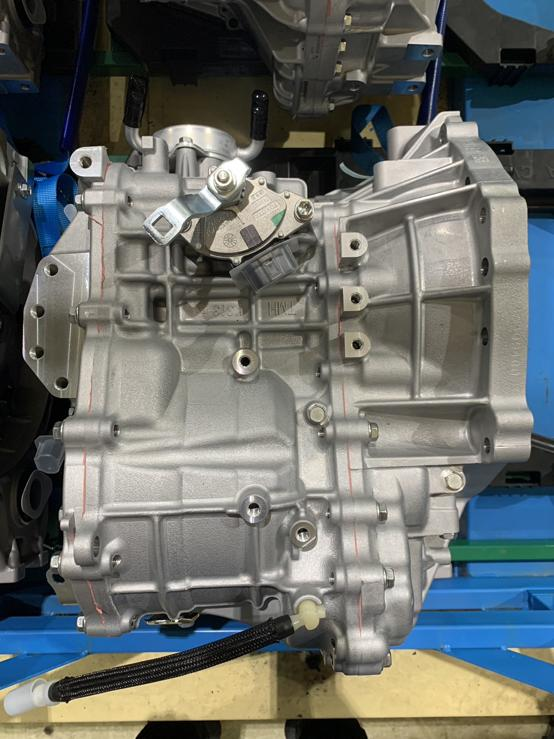gearbox_type1: (22, 108, 532, 669)
gearbox_type1_FP1: (337, 226, 369, 263)
gearbox_type1_FP2: (338, 281, 371, 313)
gearbox_type1_FP3: (66, 142, 109, 182)
